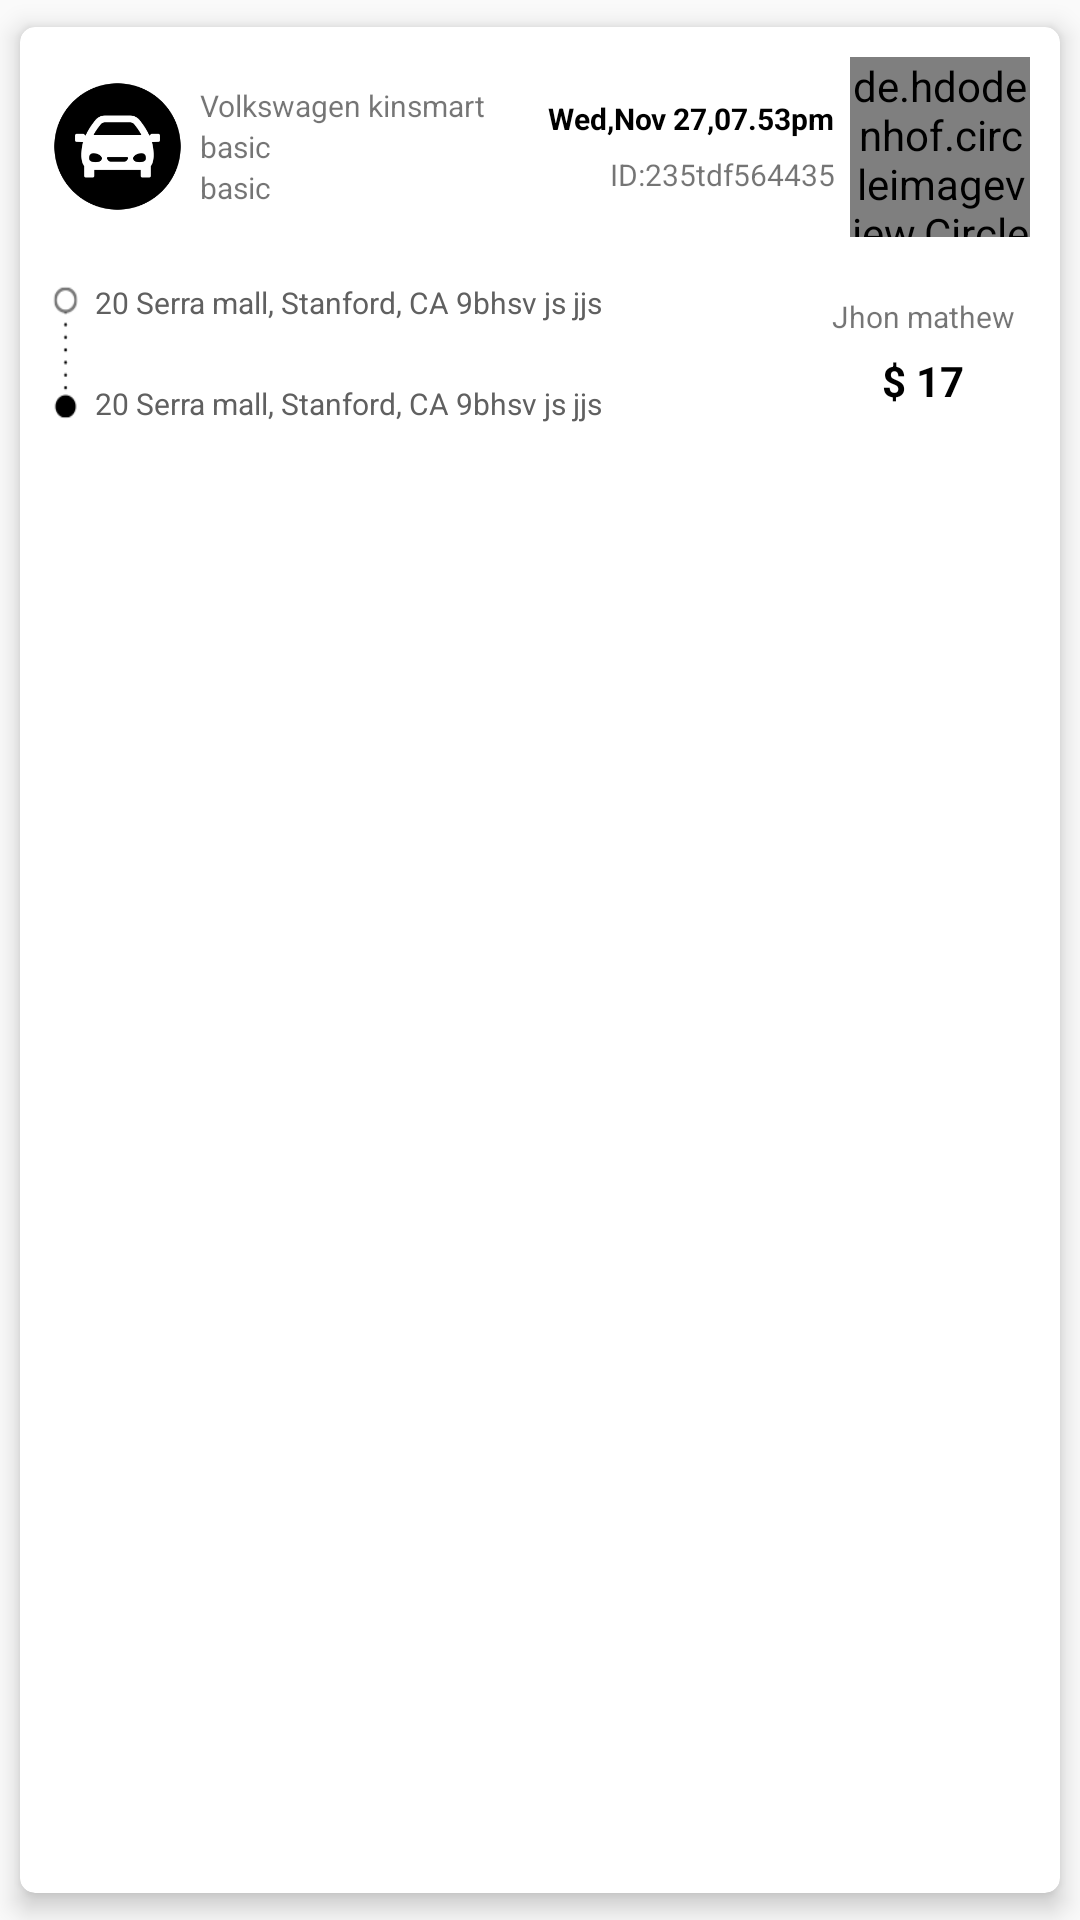

Named icons in this screenshot (1080px x 1920px) and their centers, (x=x, y=y):
base car: (x=117, y=146)
